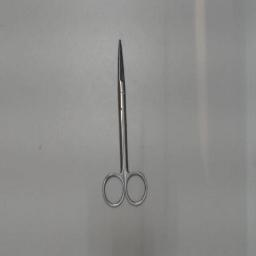Curved Mayo Scissors: (100, 36, 150, 210)
